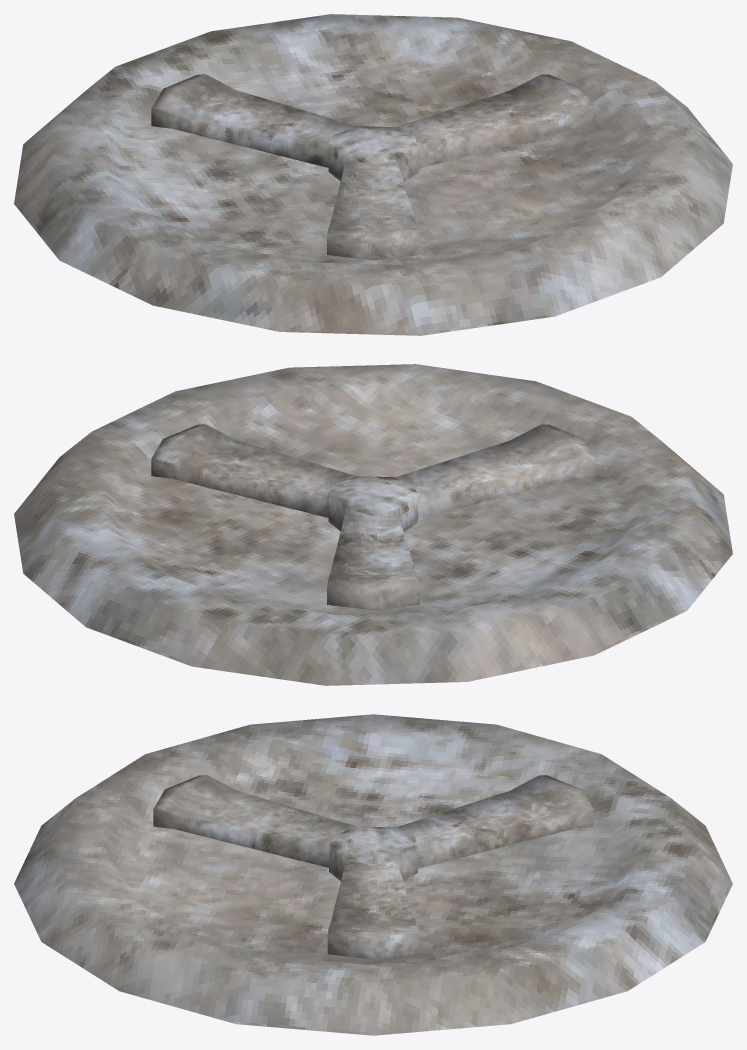
The model's file is Teleporter.gltf.
The picture shows the model from 3 angles, top to bottom: view 1: azimuth 30°, elevation 25°; view 2: azimuth 150°, elevation 25°; view 3: azimuth 270°, elevation 25°; orthographic projection.
Visible parts, largest first — view 1: Base, Spinner; view 2: Base, Spinner; view 3: Base, Spinner.
Boxes of the visible parts, <box> form: Base: <box>14,14,732,335</box>; Spinner: <box>151,74,595,260</box>; Base: <box>14,364,732,685</box>; Spinner: <box>151,424,595,610</box>; Base: <box>14,714,732,1035</box>; Spinner: <box>153,775,593,959</box>.
Bounding box in the file's own units: 1.96 × 0.1387 × 1.96.
Materials: 1 (1 with a texture image).
